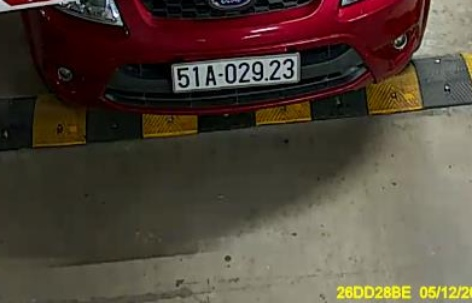plate: (166, 51, 302, 92)
